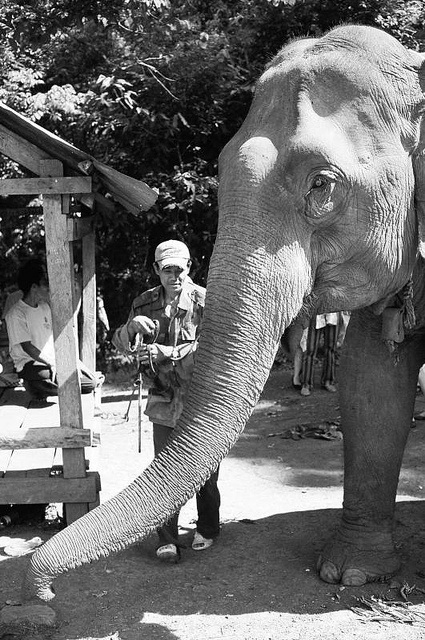elephant: (29, 25, 425, 601)
